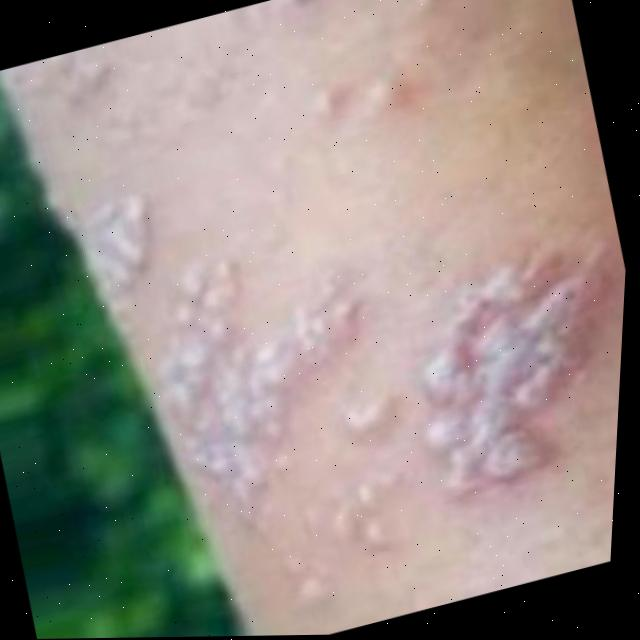Shingles: (124, 215, 422, 545), (377, 217, 628, 515), (263, 464, 422, 623), (50, 178, 188, 325)
